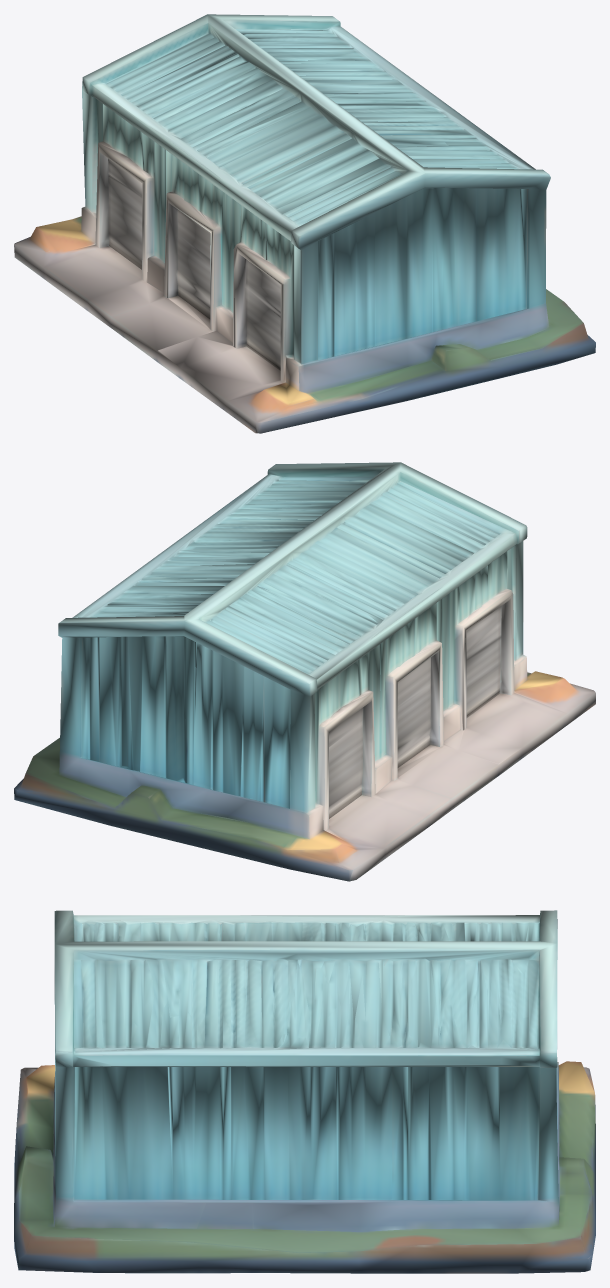
File: depo.glb
3 renders of one model, top to bottom at view 1: azimuth 30°, elevation 25°; view 2: azimuth 150°, elevation 25°; view 3: azimuth 270°, elevation 25°, orthographic. The views are drawn at different scales.
Visible parts, largest first — view 1: node_0; view 2: node_0; view 3: node_0.
Boxes of the visible parts, <box> form: node_0: <box>14,14,595,433</box>; node_0: <box>14,462,595,881</box>; node_0: <box>14,910,595,1273</box>.
Bounding box in the file's own units: 0.7139 × 0.4113 × 0.9049.
1 material, 1 textured.
